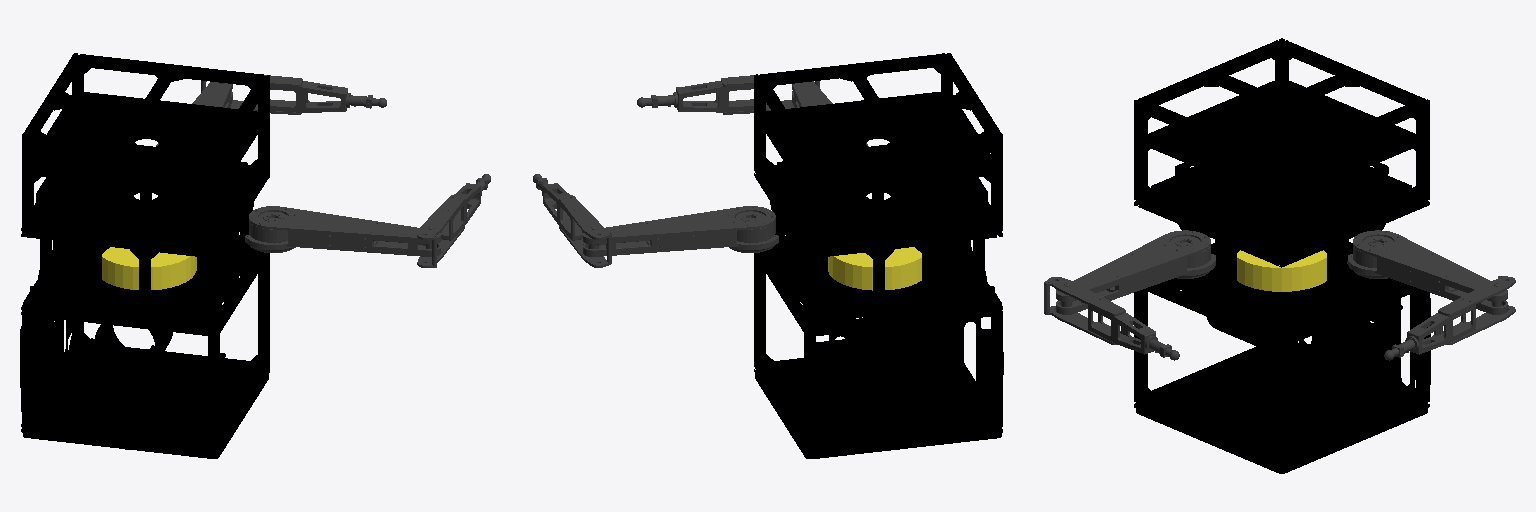
The robot description file, URDF, robot "pingu":
<?xml version="1.0" ?>
<!-- =================================================================================== -->
<!-- |    This document was autogenerated by xacro from [local-path]/work/fp_ws/install/pingu_description/share/pingu_description/urdf/pingu.urdf.xacro | -->
<!-- |    EDITING THIS FILE BY HAND IS NOT RECOMMENDED                                 | -->
<!-- =================================================================================== -->
<robot name="pingu">
 <!-- Enable right arm -->
 <link name="world"/>
 <joint name="base_joint" type="floating">
  <origin rpy="0 0 0" xyz="0 0 .2875"/>
  <parent link="world"/>
  <child link="base_link"/>
 </joint>
 <!-- Base description -->
 <link name="base_link">
  <visual>
   <geometry>
    <mesh filename="package://pingu_description/mesh/base_link.stl" scale="1 1 1"/>
   </geometry>
   <material name="black_transparent">
    <color rgba="0 0 0 0.5"/>
   </material>
   <origin rpy="0 0 0.785398163375" xyz="0 0 0"/>
  </visual>
  <collision>
   <geometry>
    <mesh filename="package://pingu_description/mesh/base_link.stl" scale="1 1 1"/>
   </geometry>
   <origin rpy="0 0 0.785398163375" xyz="0 0 0"/>
   <!-- 0 0 0.3276 for box -->
  </collision>
  <inertial>
   <mass value="23.0"/>
   <origin rpy="0 0 0.785398163375" xyz="0 0 0"/>
   <inertia ixx="0.5" ixy="0" ixz="0" iyy="0.5" iyz="0" izz="0.5"/>
  </inertial>
 </link>
 <joint name="rw_base_joint" type="fixed">
  <origin rpy="0 0 0" xyz="0 0 .2875"/>
  <parent link="base_link"/>
  <child link="rw_base"/>
 </joint>
 <!-- Base Link -->
 <link name="rw_base">
  <collision>
   <origin rpy="0 0 0" xyz="0 0 0"/>
   <geometry>
    <mesh filename="package://rw_ros2_control/mesh/rw_base.stl" scale="1 1 1"/>
   </geometry>
  </collision>
  <visual>
   <origin rpy="0 0 0.785" xyz="0 0 0"/>
   <geometry>
    <mesh filename="package://rw_ros2_control/mesh/rw_base.stl" scale="1 1 1"/>
   </geometry>
   <material name="orange"/>
  </visual>
  <inertial>
   <origin rpy="0 0 0.785" xyz="0 0 0"/>
   <mass value="1.0"/>
   <inertia ixx="0.0001" ixy="0.0" ixz="0.0" iyy="0.0001" iyz="0.0" izz="0.0001"/>
  </inertial>
 </link>
 <!-- Middle Link -->
 <link name="rw_rotor">
  <collision>
   <origin rpy="0 0 0" xyz="0 0 0"/>
   <geometry>
    <cylinder length="0.05" radius="0.1"/>
   </geometry>
  </collision>
  <visual>
   <origin rpy="0 0 0" xyz="0 0 0"/>
   <geometry>
    <cylinder length="0.05" radius="0.1"/>
   </geometry>
   <material name="orange"/>
  </visual>
  <inertial>
   <origin rpy="0 0 0" xyz="0 0 0"/>
   <mass value="1.0"/>
   <inertia ixx="0.0001" ixy="0.0" ixz="0.0" iyy="0.0001" iyz="0.0" izz="0.0001"/>
  </inertial>
 </link>
 <joint name="rw_joint" type="revolute">
  <parent link="rw_base"/>
  <child link="rw_rotor"/>
  <origin rpy="0 0 0" xyz="0 0 0.05"/>
  <axis xyz="0 0 1"/>
  <limit effort="10.0" lower="-3.14" upper="3.14" velocity="1.0"/>
  <dynamics damping="0.5" friction="0.5"/>
 </joint>
 <joint name="left_base_joint" type="fixed">
  <origin rpy="0 0 0.785398163375" xyz="0.18384776309900003 0.18384776309900003 .3475"/>
  <parent link="base_link"/>
  <child link="left_link0"/>
 </joint>
 <link name="left_link0">
  <visual>
   <origin rpy="0 0 0" xyz="0 0 0"/>
   <geometry>
    <mesh filename="package://levion_arm_ros2_control/mesh/Link0.STL" scale="1 1 1"/>
   </geometry>
   <material name="levion_black">
    <color rgba="0.3 0.3 0.3 1.0"/>
   </material>
  </visual>
  <collision>
   <origin rpy="0 0 0" xyz="0 0 0"/>
   <geometry>
    <mesh filename="package://levion_arm_ros2_control/mesh/Link0.STL" scale="1 1 1"/>
   </geometry>
  </collision>
  <inertial>
   <origin rpy="0 0 0" xyz="0 0 0"/>
   <mass value="0.5"/>
   <inertia ixx="0.0005" ixy="0.0" ixz="0.0" iyy="0.0005" iyz="0.0" izz="0.0005"/>
  </inertial>
 </link>
 <link name="left_link1">
  <visual>
   <origin rpy="0 0 0" xyz="0 0 0"/>
   <geometry>
    <mesh filename="package://levion_arm_ros2_control/mesh/Link1.STL" scale="1 1 1"/>
   </geometry>
   <material name="levion_black">
    <color rgba="0.3 0.3 0.3 1.0"/>
   </material>
  </visual>
  <collision>
   <origin rpy="0 0 0" xyz="0 0 0"/>
   <geometry>
    <mesh filename="package://levion_arm_ros2_control/mesh/Link1.STL" scale="1 1 1"/>
   </geometry>
  </collision>
  <inertial>
   <origin rpy="0 0 0" xyz="0.05 0 0"/>
   <mass value="0.6"/>
   <inertia ixx="0.0006" ixy="0.0" ixz="0.0" iyy="0.0006" iyz="0.0" izz="0.0006"/>
  </inertial>
 </link>
 <link name="left_link2">
  <visual>
   <origin rpy="0 0 0" xyz="0 0 0"/>
   <geometry>
    <mesh filename="package://levion_arm_ros2_control/mesh/Link2.STL" scale="1 1 1"/>
   </geometry>
   <material name="levion_black">
    <color rgba="0.3 0.3 0.3 1.0"/>
   </material>
  </visual>
  <collision>
   <origin rpy="0 0 0" xyz="0 0 0"/>
   <geometry>
    <mesh filename="package://levion_arm_ros2_control/mesh/Link2.STL" scale="1 1 1"/>
   </geometry>
  </collision>
  <inertial>
   <origin rpy="0 0 0" xyz="0 0 0"/>
   <mass value="0.1"/>
   <inertia ixx="0.0001" ixy="0.0" ixz="0.0" iyy="0.0001" iyz="0.0" izz="0.0001"/>
  </inertial>
 </link>
 <link name="left_tool_link">
  </link>
 <joint name="left_shoulder_joint" type="revolute">
  <origin rpy="0 0 0" xyz="0 0 0.0439"/>
  <parent link="left_link0"/>
  <child link="left_link1"/>
  <axis xyz="0 0 1"/>
  <limit effort="10" lower="-1.57079632675" upper="1.57079632675" velocity="10"/>
 </joint>
 <joint name="left_elbow_joint" type="revolute">
  <origin rpy="0 0 0" xyz="0.32 0 0.04685"/>
  <parent link="left_link1"/>
  <child link="left_link2"/>
  <axis xyz="0 0 1"/>
  <limit effort="10" lower="-2.615" upper="-0.349" velocity="10"/>
 </joint>
 <joint name="left_tool_joint" type="fixed">
  <origin rpy="1.57079632675 0 1.57079632675" xyz=".255 0 0"/>
  <parent link="left_link2"/>
  <child link="left_tool_link"/>
 </joint>
 <joint name="right_base_joint" type="fixed">
  <origin rpy="0 0 -0.785398163375" xyz="0.18384776309900003 -0.18384776309900003 .3475"/>
  <parent link="base_link"/>
  <child link="right_link0"/>
 </joint>
 <link name="right_link0">
  <visual>
   <origin rpy="0 0 0" xyz="0 0 0"/>
   <geometry>
    <mesh filename="package://levion_arm_ros2_control/mesh/Link0.STL" scale="1 1 1"/>
   </geometry>
   <material name="levion_black">
    <color rgba="0.3 0.3 0.3 1.0"/>
   </material>
  </visual>
  <collision>
   <origin rpy="0 0 0" xyz="0 0 0"/>
   <geometry>
    <mesh filename="package://levion_arm_ros2_control/mesh/Link0.STL" scale="1 1 1"/>
   </geometry>
  </collision>
  <inertial>
   <origin rpy="0 0 0" xyz="0 0 0"/>
   <mass value="0.5"/>
   <inertia ixx="0.0005" ixy="0.0" ixz="0.0" iyy="0.0005" iyz="0.0" izz="0.0005"/>
  </inertial>
 </link>
 <link name="right_link1">
  <visual>
   <origin rpy="0 0 0" xyz="0 0 0"/>
   <geometry>
    <mesh filename="package://levion_arm_ros2_control/mesh/Link1.STL" scale="1 1 1"/>
   </geometry>
   <material name="levion_black">
    <color rgba="0.3 0.3 0.3 1.0"/>
   </material>
  </visual>
  <collision>
   <origin rpy="0 0 0" xyz="0 0 0"/>
   <geometry>
    <mesh filename="package://levion_arm_ros2_control/mesh/Link1.STL" scale="1 1 1"/>
   </geometry>
  </collision>
  <inertial>
   <origin rpy="0 0 0" xyz="0.05 0 0"/>
   <mass value="0.6"/>
   <inertia ixx="0.0006" ixy="0.0" ixz="0.0" iyy="0.0006" iyz="0.0" izz="0.0006"/>
  </inertial>
 </link>
 <link name="right_link2">
  <visual>
   <origin rpy="0 0 0" xyz="0 0 0"/>
   <geometry>
    <mesh filename="package://levion_arm_ros2_control/mesh/Link2.STL" scale="1 1 1"/>
   </geometry>
   <material name="levion_black">
    <color rgba="0.3 0.3 0.3 1.0"/>
   </material>
  </visual>
  <collision>
   <origin rpy="0 0 0" xyz="0 0 0"/>
   <geometry>
    <mesh filename="package://levion_arm_ros2_control/mesh/Link2.STL" scale="1 1 1"/>
   </geometry>
  </collision>
  <inertial>
   <origin rpy="0 0 0" xyz="0 0 0"/>
   <mass value="0.1"/>
   <inertia ixx="0.0001" ixy="0.0" ixz="0.0" iyy="0.0001" iyz="0.0" izz="0.0001"/>
  </inertial>
 </link>
 <link name="right_tool_link">
  </link>
 <joint name="right_shoulder_joint" type="revolute">
  <origin rpy="0 0 0" xyz="0 0 0.0439"/>
  <parent link="right_link0"/>
  <child link="right_link1"/>
  <axis xyz="0 0 1"/>
  <limit effort="10" lower="-1.57079632675" upper="1.57079632675" velocity="10"/>
 </joint>
 <joint name="right_elbow_joint" type="revolute">
  <origin rpy="0 0 0" xyz="0.32 0 0.04685"/>
  <parent link="right_link1"/>
  <child link="right_link2"/>
  <axis xyz="0 0 1"/>
  <limit effort="10" lower="0.349" upper="2.615" velocity="10"/>
 </joint>
 <joint name="right_tool_joint" type="fixed">
  <origin rpy="1.57079632675 0 1.57079632675" xyz=".255 0 0"/>
  <parent link="right_link2"/>
  <child link="right_tool_link"/>
 </joint>
 <!-- real/mujoco -->
 <ros2_control name="RwSystem" type="system">
  <hardware>
   <plugin>mujoco_ros2_control/MujocoSystem</plugin>
  </hardware>
  <joint name="rw_joint">
   <command_interface name="position">
    <param name="min">-1</param>
    <param name="max">1</param>
   </command_interface>
   <state_interface name="position"/>
   <state_interface name="velocity"/>
   <state_interface name="effort"/>
   <param name="node_id">0</param>
  </joint>
 </ros2_control>
 <!-- real/mujoco-->
 <ros2_control name="levion_arm" type="system">
  <hardware>
   <plugin>mujoco_ros2_control/MujocoSystem</plugin>
  </hardware>
  <joint name="left_shoulder_joint">
   <!-- ros2 control basic setting -->
   <command_interface name="position">
    <param name="min">-1.57079632675</param>
    <param name="max">1.57079632675</param>
   </command_interface>
   <command_interface name="velocity">
    <param name="min">-10</param>
    <param name="max">10</param>
   </command_interface>
   <command_interface name="effort">
    <param name="min">-10</param>
    <param name="max">10</param>
   </command_interface>
   <state_interface name="position"/>
   <state_interface name="velocity"/>
   <state_interface name="effort"/>
   <state_interface name="temperature"/>
   <!-- cubemars hardware settings -->
   <param name="can_id">104</param>
   <param name="pole_pairs">21</param>
   <param name="gear_ratio">8</param>
   <param name="kt">0.199</param>
   <!-- levion arm settings -->
   <param name="pos_limit_min">-1.57079632675</param>
   <param name="pos_limit_max">1.57079632675</param>
   <param name="enc_off">0</param>
  </joint>
  <joint name="left_elbow_joint">
   <!-- ros2 control basic setting -->
   <command_interface name="position">
    <param name="min">-2.615</param>
    <param name="max">-0.349</param>
   </command_interface>
   <command_interface name="velocity">
    <param name="min">-10</param>
    <param name="max">10</param>
   </command_interface>
   <command_interface name="effort">
    <param name="min">-10</param>
    <param name="max">10</param>
   </command_interface>
   <state_interface name="position"/>
   <state_interface name="velocity"/>
   <state_interface name="effort"/>
   <state_interface name="temperature"/>
   <!-- cubemars hardware settings -->
   <param name="can_id">105</param>
   <param name="pole_pairs">21</param>
   <param name="gear_ratio">8</param>
   <param name="kt">0.199</param>
   <!-- levion arm settings -->
   <param name="pos_limit_min">-2.615</param>
   <param name="pos_limit_max">-0.349</param>
   <param name="enc_off">0.349</param>
  </joint>
  <joint name="right_shoulder_joint">
   <!-- ros2 control basic setting -->
   <command_interface name="position">
    <param name="min">-1.57079632675</param>
    <param name="max">1.57079632675</param>
   </command_interface>
   <command_interface name="velocity">
    <param name="min">-10</param>
    <param name="max">10</param>
   </command_interface>
   <command_interface name="effort">
    <param name="min">-10</param>
    <param name="max">10</param>
   </command_interface>
   <state_interface name="position"/>
   <state_interface name="velocity"/>
   <state_interface name="effort"/>
   <state_interface name="temperature"/>
   <!-- cubemars hardware settings -->
   <param name="can_id">204</param>
   <param name="pole_pairs">21</param>
   <param name="gear_ratio">8</param>
   <param name="kt">0.199</param>
   <!-- levion arm settings -->
   <param name="pos_limit_min">-1.57079632675</param>
   <param name="pos_limit_max">1.57079632675</param>
   <param name="enc_off">0</param>
  </joint>
  <joint name="right_elbow_joint">
   <!-- ros2 control basic setting -->
   <command_interface name="position">
    <param name="min">0.349</param>
    <param name="max">2.615</param>
   </command_interface>
   <command_interface name="velocity">
    <param name="min">-10</param>
    <param name="max">10</param>
   </command_interface>
   <command_interface name="effort">
    <param name="min">-10</param>
    <param name="max">10</param>
   </command_interface>
   <state_interface name="position"/>
   <state_interface name="velocity"/>
   <state_interface name="effort"/>
   <state_interface name="temperature"/>
   <!-- cubemars hardware settings -->
   <param name="can_id">205</param>
   <param name="pole_pairs">21</param>
   <param name="gear_ratio">8</param>
   <param name="kt">0.199</param>
   <!-- levion arm settings -->
   <param name="pos_limit_min">0.349</param>
   <param name="pos_limit_max">2.615</param>
   <param name="enc_off">-0.349</param>
  </joint>
 </ros2_control>
</robot>

--- Render facts (derived) ---
Views: 3 orthographic renders of the robot side by side, from view 1: azimuth 30°, elevation 25°; view 2: azimuth 150°, elevation 25°; view 3: azimuth 270°, elevation 25°.
Robot: pingu — 12 links, 11 joints (5 revolute, 5 fixed, 1 floating); root link world; default pose: all joints at 0 but 2 set to mid-range because 0 is outside their limits (left_elbow_joint = -1.48, right_elbow_joint = 1.48).
Links seen in each view (by area): view 1: base_link, right_link1, rw_rotor, right_link2, left_link2, left_link1; view 2: base_link, left_link1, rw_rotor, left_link2, right_link2, right_link1; view 3: base_link, left_link1, right_link1, right_link2, left_link2, rw_rotor.
Link boxes in pixels (x1,y1,x2,y2): base_link: (20,53,269,458); right_link1: (245,206,440,256); rw_rotor: (102,247,196,289); right_link2: (417,174,490,267); left_link2: (201,75,386,114); left_link1: (156,82,232,145); base_link: (754,53,1003,458); left_link1: (583,206,778,256); rw_rotor: (828,247,921,290); left_link2: (533,174,611,267); right_link2: (637,75,819,114); right_link1: (792,81,868,146); base_link: (1134,38,1430,473); left_link1: (1347,230,1507,314); right_link1: (1056,230,1215,314); right_link2: (1044,277,1179,360); left_link2: (1384,276,1515,360); rw_rotor: (1237,250,1326,291).
Bounding box of the posed robot: 0.9497 × 0.8975 × 0.6682 m (x, y, z).
6 mesh visuals loaded from 5 distinct referenced files (4 binary STL); not drawn: 2 (reference not matched to a file when rendering).